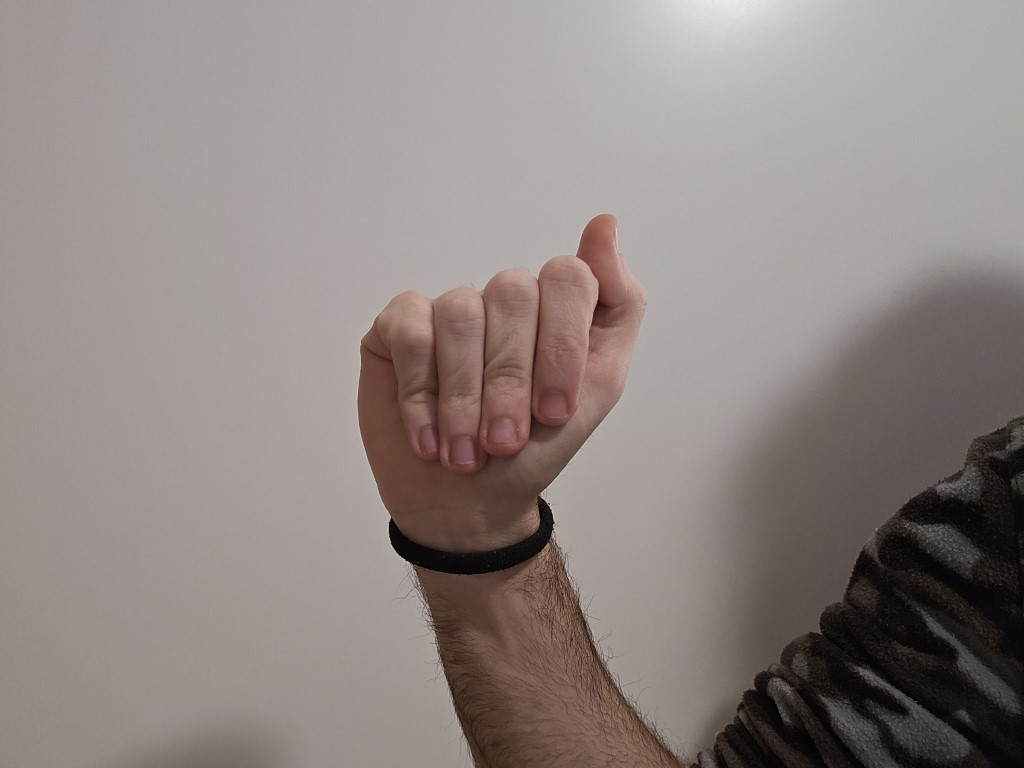a: (347, 207, 658, 550)
